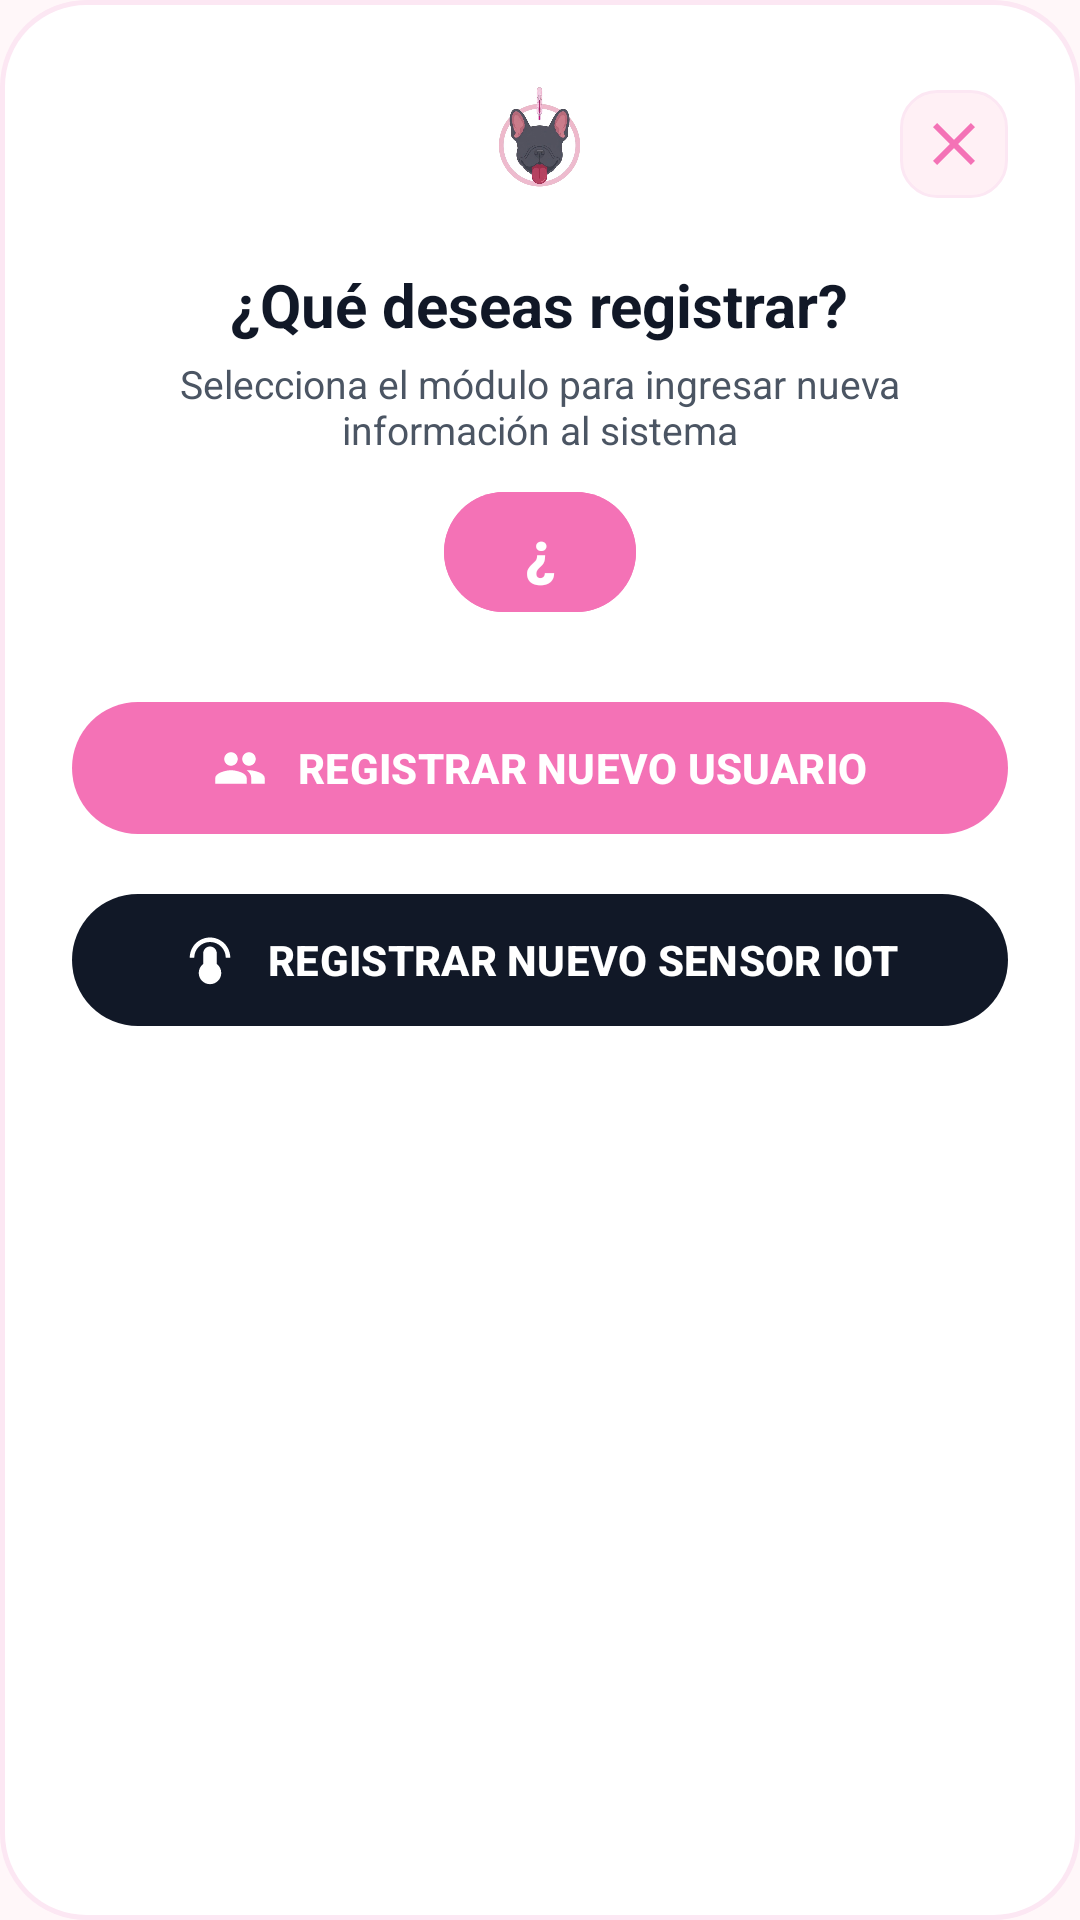

Icons on this 1080x1920 Android screen, each with its box as (x1, y1, x2, y2):
close: (900, 90, 1008, 198)
imagenapp: (499, 87, 580, 187)
